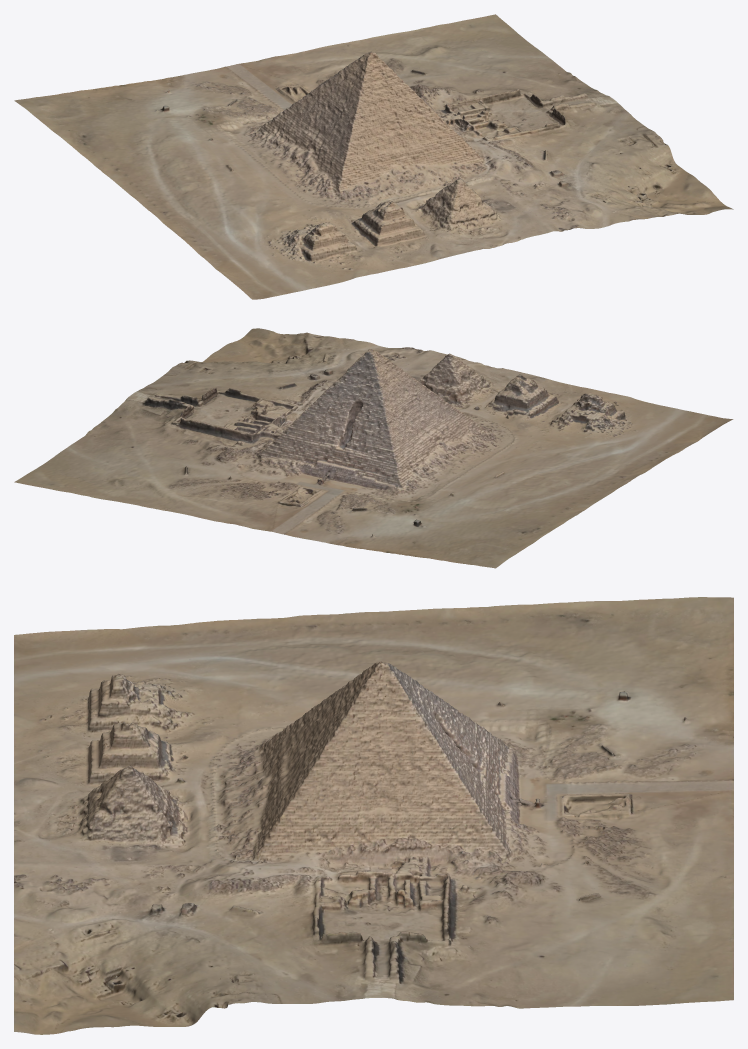
3 renders of one model, top to bottom at view 1: azimuth 30°, elevation 25°; view 2: azimuth 150°, elevation 25°; view 3: azimuth 270°, elevation 25°, orthographic. The views are drawn at different scales.
Visible parts, largest first — view 1: EGY_001_M4_Mykerinos; view 2: EGY_001_M4_Mykerinos; view 3: EGY_001_M4_Mykerinos.
Boxes of the visible parts, x1,y1,x2,y2 form: EGY_001_M4_Mykerinos: (14, 14, 733, 299); EGY_001_M4_Mykerinos: (14, 328, 733, 568); EGY_001_M4_Mykerinos: (14, 597, 733, 1034).
Bounding box in the file's own units: 322 × 82.44 × 276.
1 material, 1 textured.
